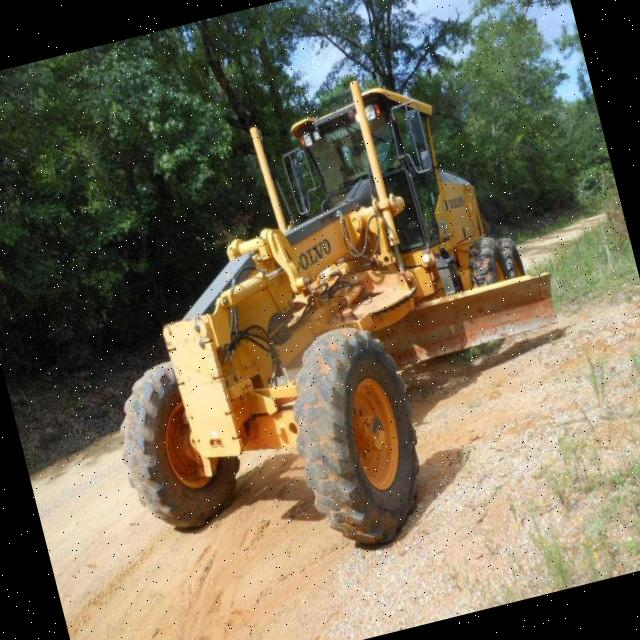Grader: (36, 39, 612, 618)
